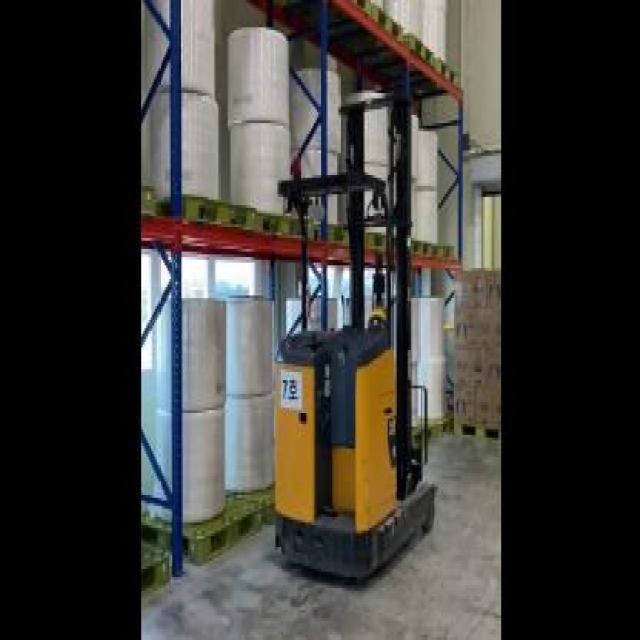box: (448, 254, 498, 448)
robot: (272, 84, 438, 572)
white_roll: (152, 298, 232, 564), (148, 3, 225, 224), (226, 19, 294, 235), (223, 295, 277, 517), (291, 71, 340, 238), (346, 90, 391, 241), (402, 287, 446, 432), (397, 109, 437, 260)
